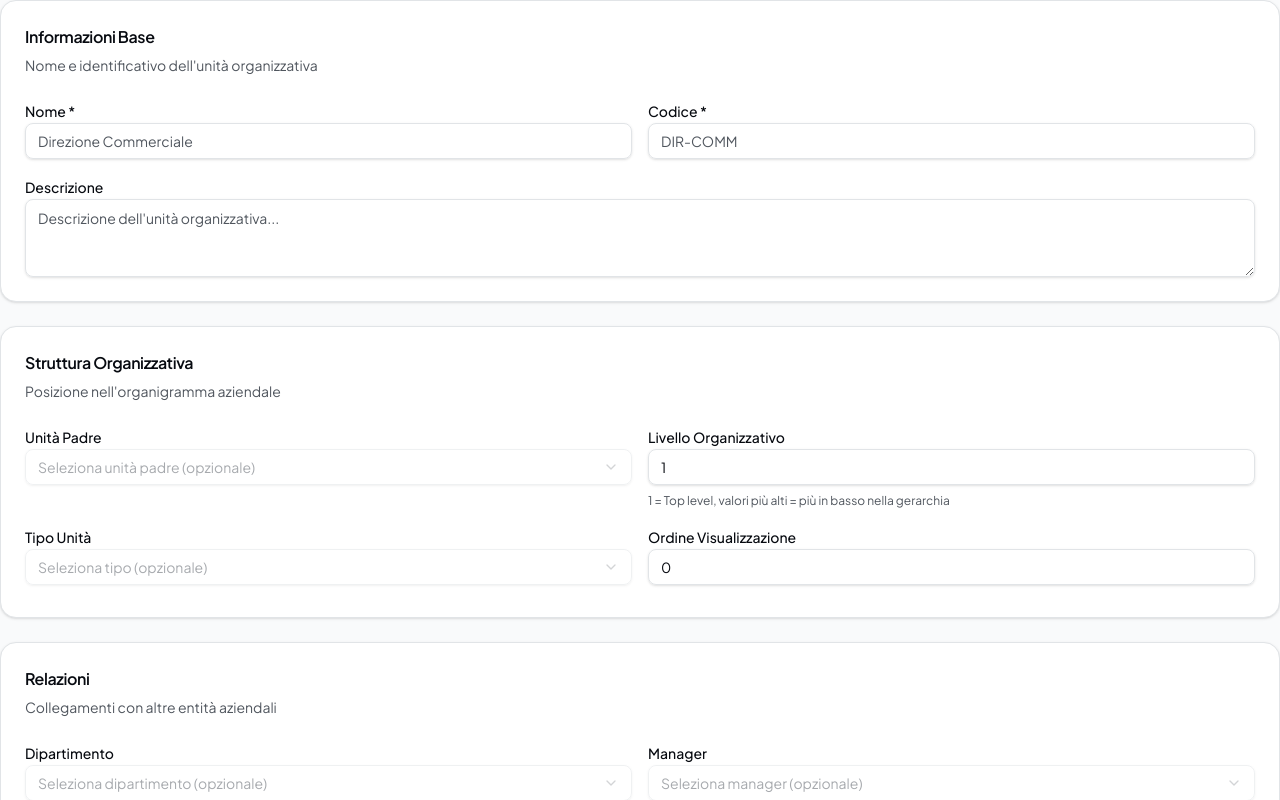
Test: OrgUnitForm › auto-generates code from name in create mode
Type "Dir Commerciale" into the field labelled "Nome *" at coordinates (328, 141), box [25,123,632,159]
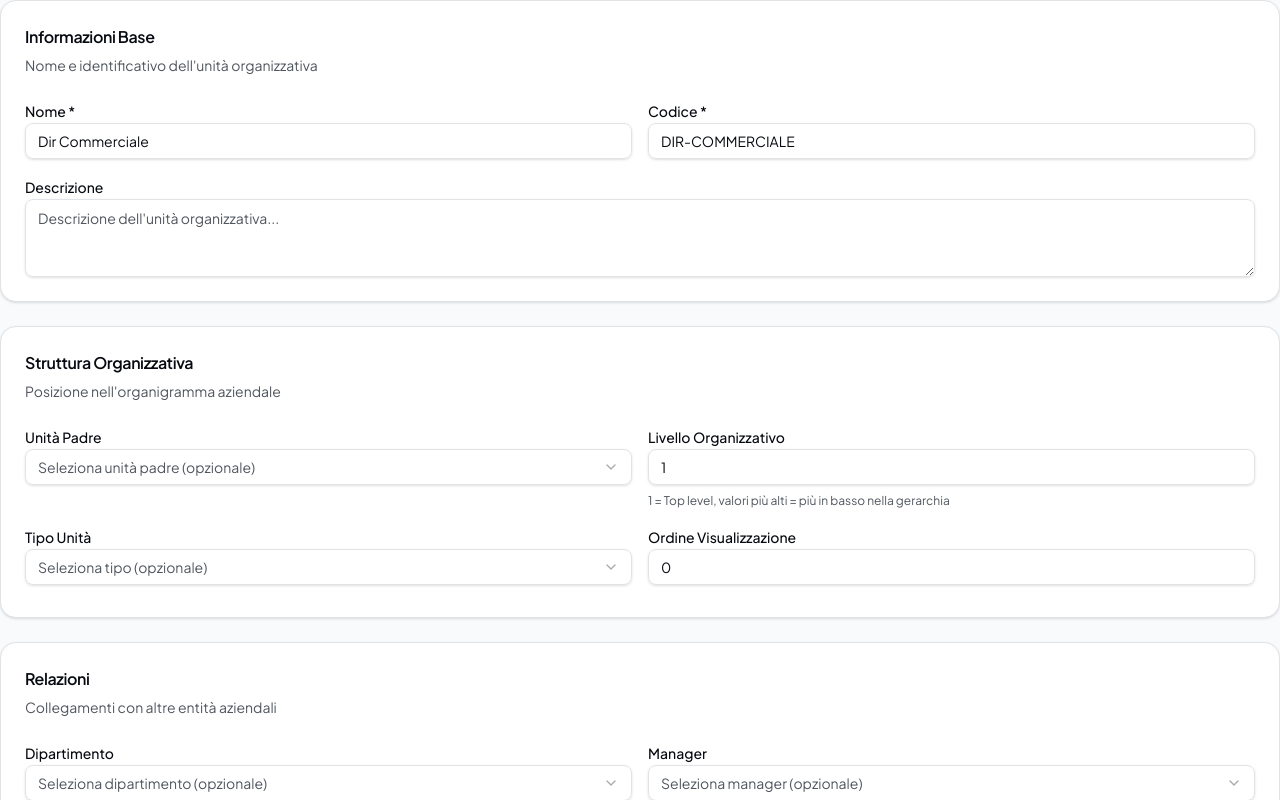
Expected: the field labelled "Codice *" holds "DIR-COMMERCIALE", [648,123,1255,159]
